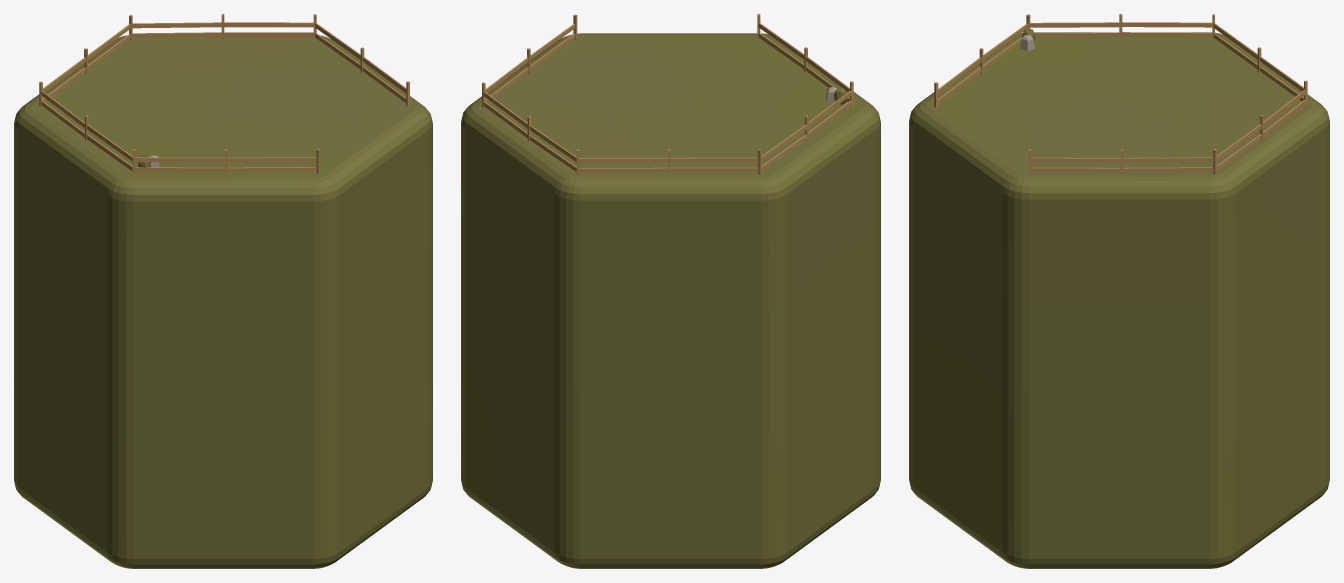
Rendered from Hex-forge2.glb.
3 renders of one model, left to right at view 1: azimuth 30°, elevation 25°; view 2: azimuth 150°, elevation 25°; view 3: azimuth 270°, elevation 25°, orthographic.
Parts seen in each view (by area): view 1: Cylinder, Cube.081_Material.001_0; view 2: Cylinder, Cube.081_Material.001_0; view 3: Cylinder, Cube.081_Material.001_0.
Boxes of the visible parts, x1,y1,x2,y2 form: Cylinder: (14,35,432,568); Cube.081_Material.001_0: (39,14,409,174); Cylinder: (461,33,880,568); Cube.081_Material.001_0: (482,14,853,174); Cylinder: (909,32,1329,568); Cube.081_Material.001_0: (934,14,1307,174).
Bounding box in the file's own units: 1.73 × 2.12 × 1.95.
3 materials, 3 textured.
